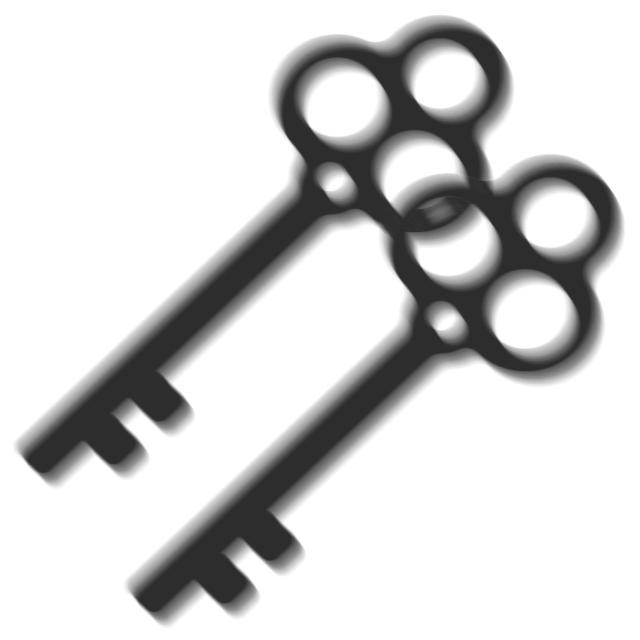key: (94, 112, 630, 634), (1, 11, 531, 534)
